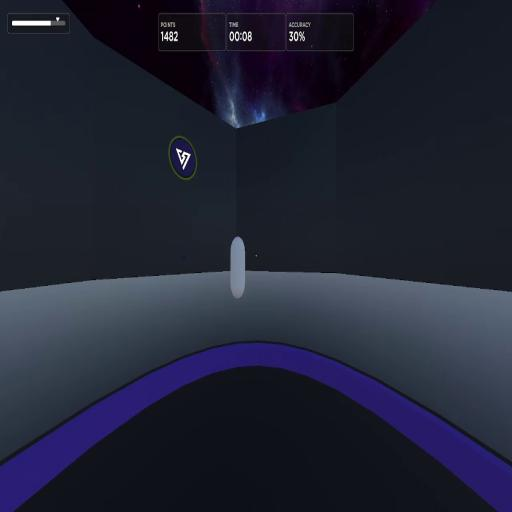Crosshair: (256, 254, 258, 258)
Target: (230, 236, 246, 300)
